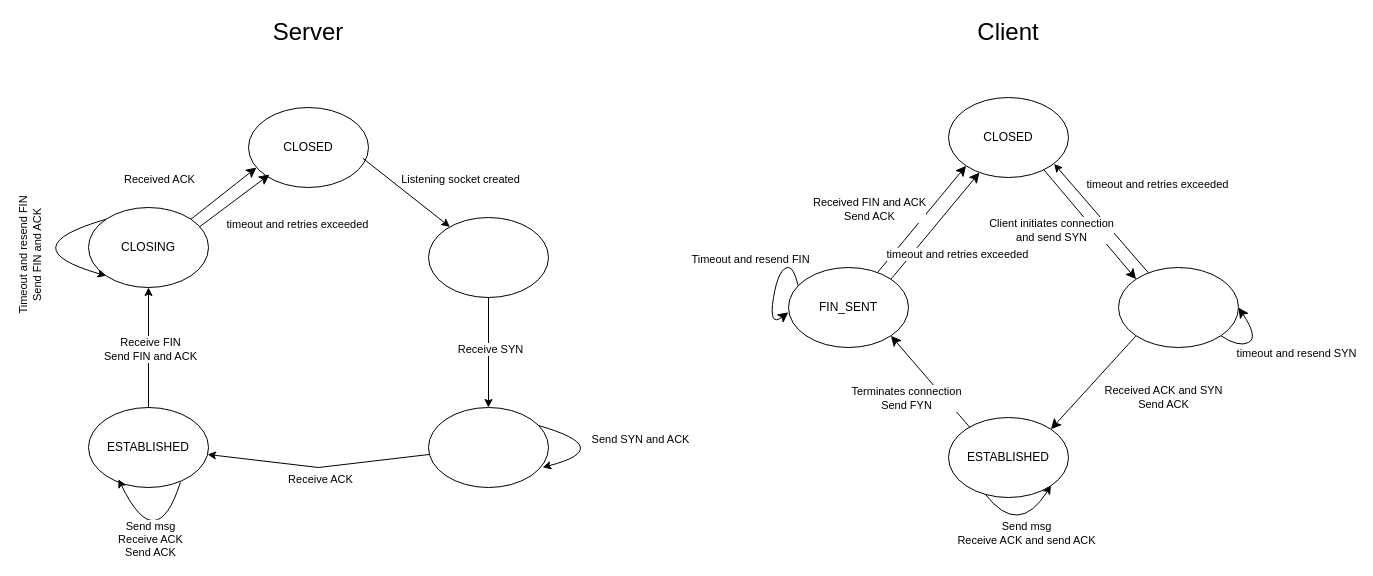
This 1373x576 diagram has some shape labels left out. Here are the shapes that lost their labels. From the top down, the box of each, then its label:
(428, 216, 548, 298): LISTENING
(1118, 266, 1238, 348): SYN_SENT
(428, 406, 548, 488): ACCEPTING
